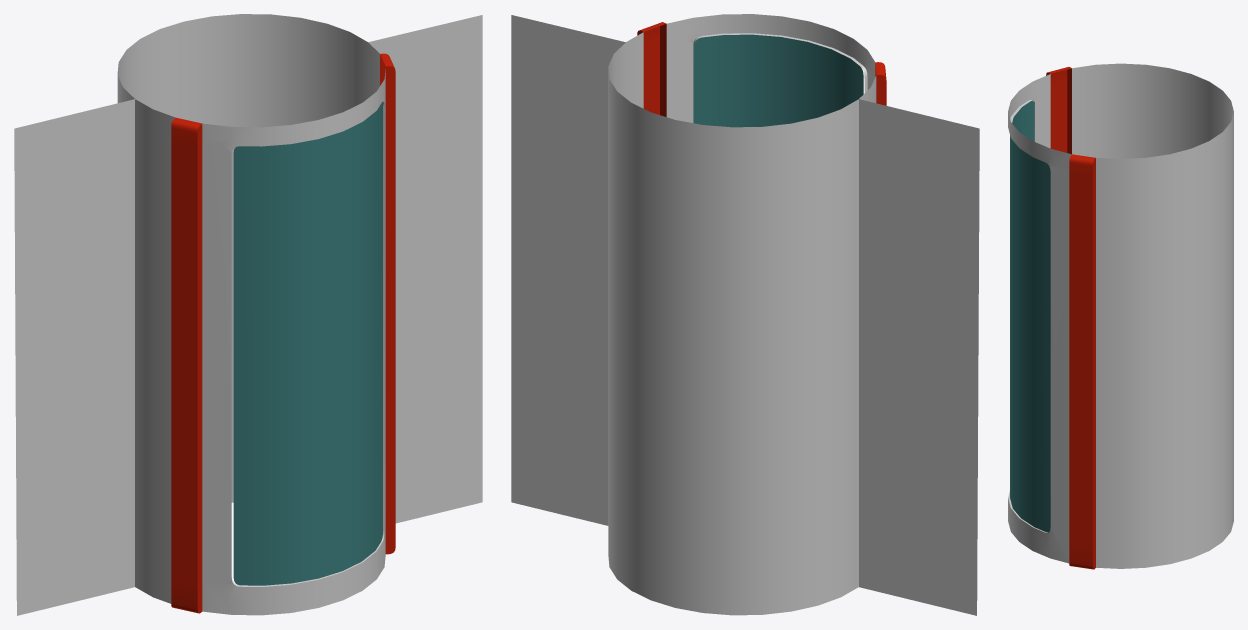
The model's file is S_assete_tube_robot_2.fbx.
3 views of the same model, side by side, from view 1: azimuth 30°, elevation 25°; view 2: azimuth 150°, elevation 25°; view 3: azimuth 270°, elevation 25° (orthographic). The views are drawn at different scales.
Parts seen in each view (by area): view 1: Plane003; view 2: Plane003; view 3: Plane003.
Boxes of the visible parts, bbox=[...] form: Plane003: bbox=[14, 14, 482, 615]; Plane003: bbox=[511, 14, 979, 615]; Plane003: bbox=[1008, 63, 1233, 569].
Bounding box in the file's own units: 402 × 400 × 200.
